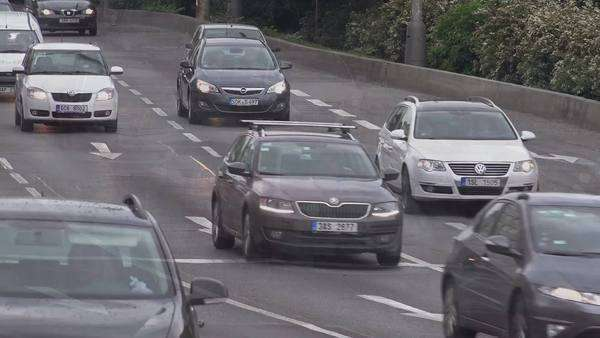car: (226, 121, 405, 272), (444, 188, 591, 338), (383, 96, 543, 206), (18, 43, 123, 133), (181, 37, 294, 120)
